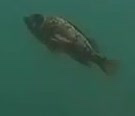smallfish: (20, 6, 121, 86)
